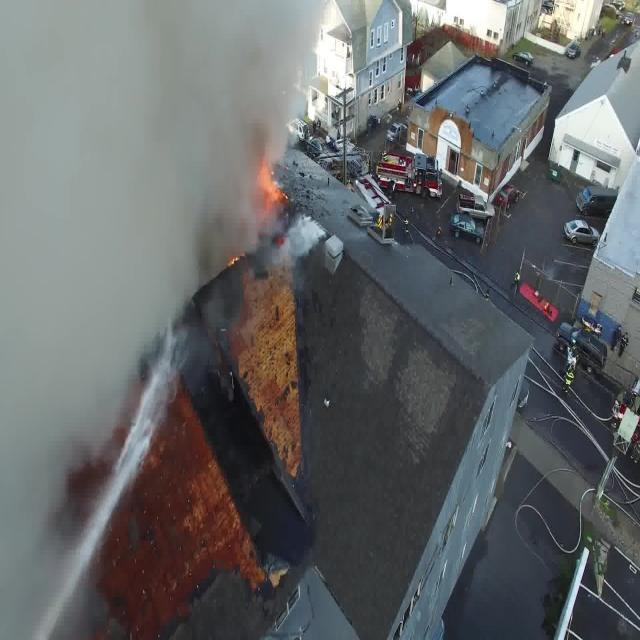Fire: (237, 140, 297, 229)
Smoke: (0, 6, 320, 263), (0, 209, 158, 637)
